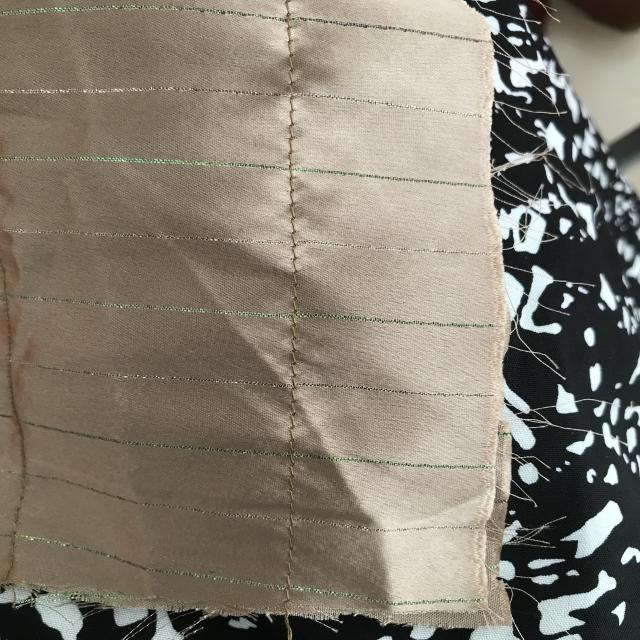good: (272, 534, 323, 575), (268, 33, 308, 76), (273, 102, 303, 156)
